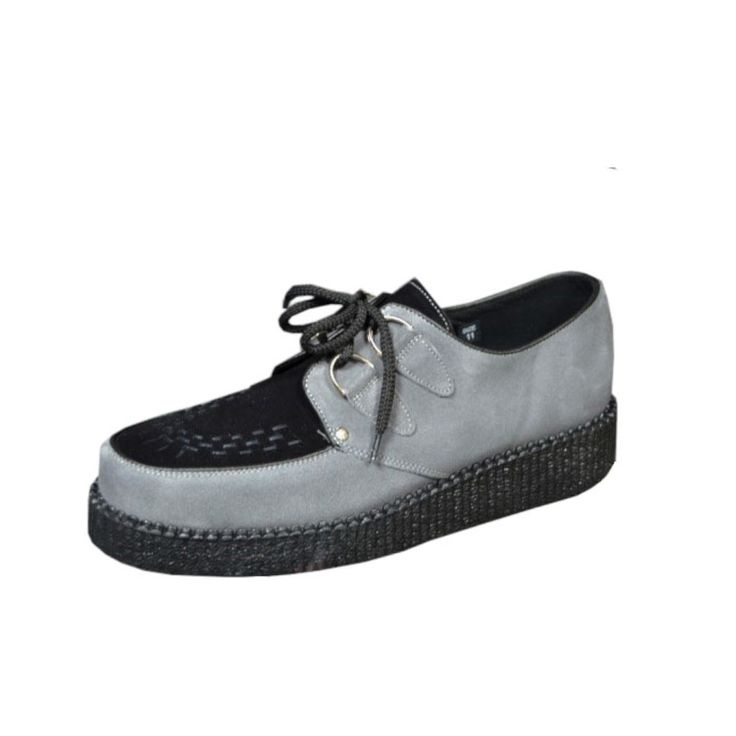gamuza: (96, 271, 614, 531)
